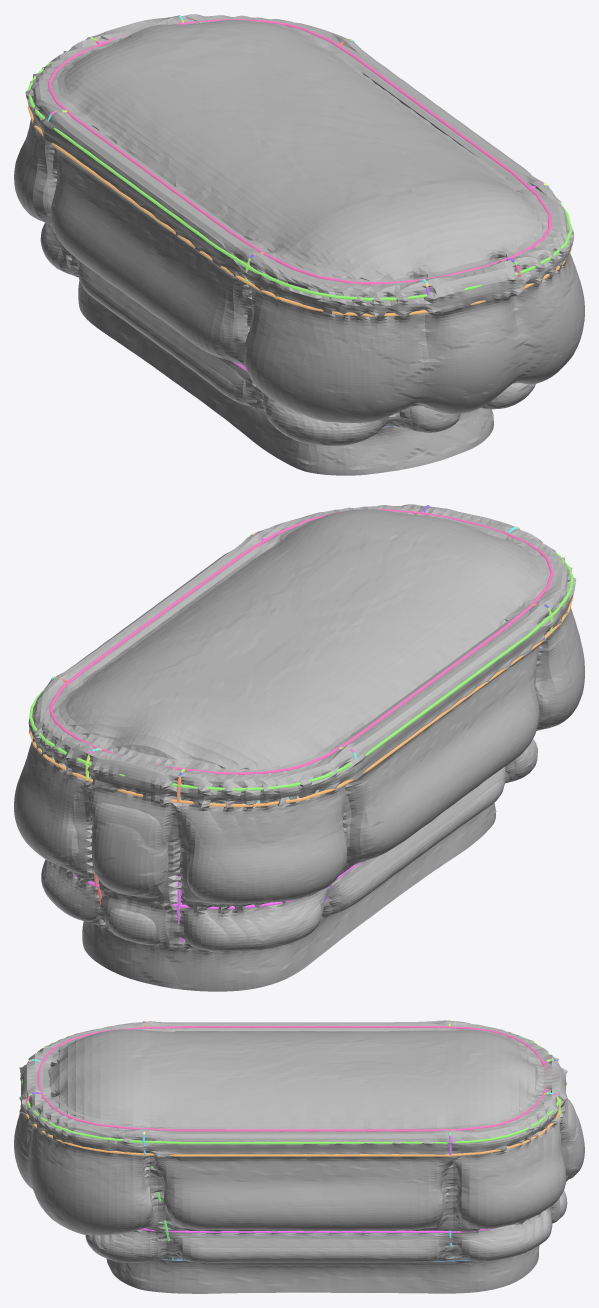
The model's file is flowrep_bathtub.gltf.
3 renders of one model, top to bottom at view 1: azimuth 30°, elevation 25°; view 2: azimuth 150°, elevation 25°; view 3: azimuth 270°, elevation 25°, orthographic. The views are drawn at different scales.
Size of the model in its own units: 0.4818 by 0.3518 by 0.9088.
